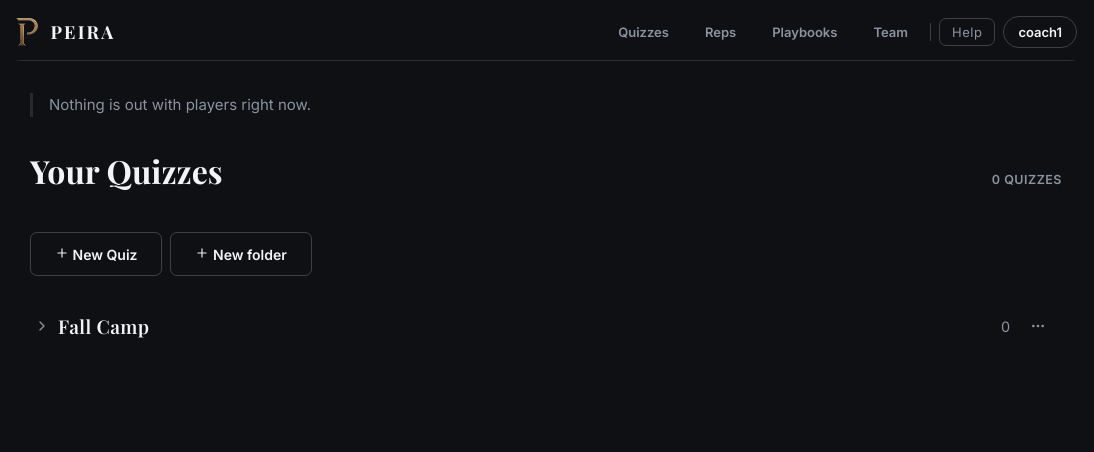
it: DashboardPage › REFUSES TO DELETE A FOLDER THAT STILL HAS FOLDERS, AND SAYS WHY
This screenshot has width=1094, height=452.
Check: the link named "Fall Camp" is shown, box [34,313,1010,339]
Click the button named "Folder options for Fall Camp" at coordinates (1038, 326), box [1018,306,1058,346]
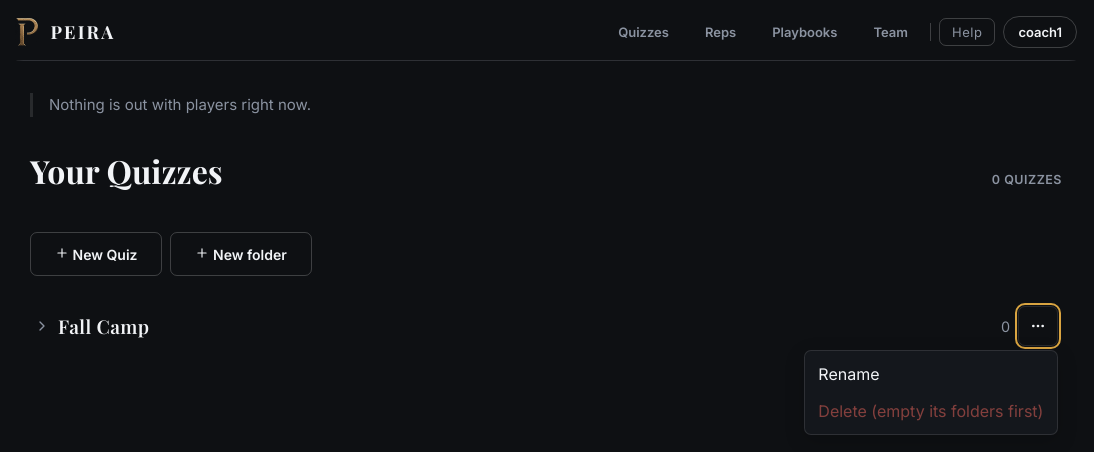
Check: the menu item "Delete (empty its folders first)" is disabled, box [809,393,1053,430]
